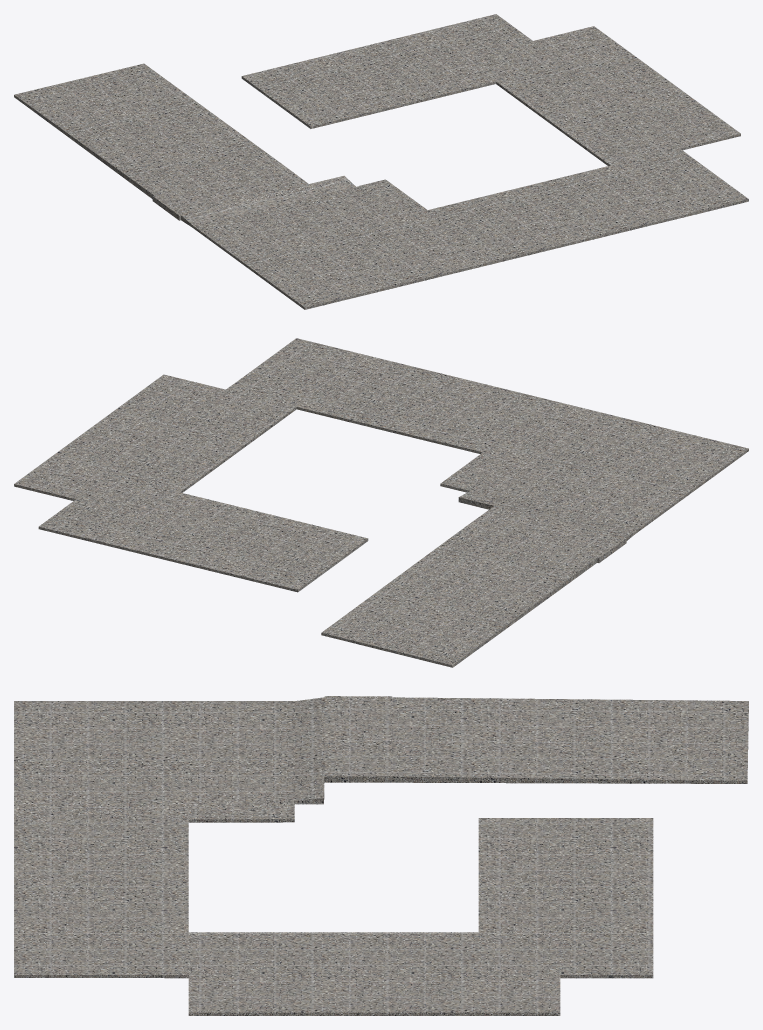
Rendered from pisoLabs.glb.
3 views of the same model, one above another, from view 1: azimuth 30°, elevation 25°; view 2: azimuth 150°, elevation 25°; view 3: azimuth 270°, elevation 25° (orthographic). The views are drawn at different scales.
Parts seen in each view (by area): view 1: piso labs; view 2: piso labs; view 3: piso labs.
Part boxes in pixels (box(x1,y1,x2,y2)): piso labs: box(14, 14, 748, 309); piso labs: box(14, 338, 748, 667); piso labs: box(14, 696, 748, 1015).
Bounding box in the file's own units: 549 × 5.18 × 545.
1 material, 1 textured.
